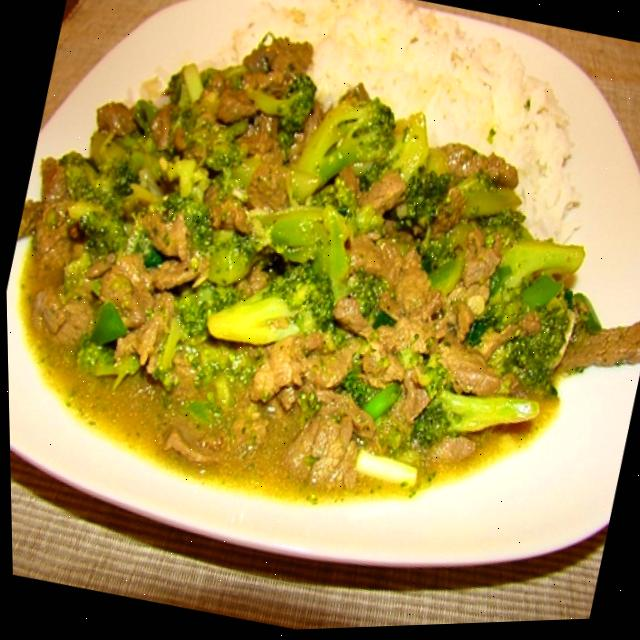牛肉菜式: (0, 0, 627, 562)
